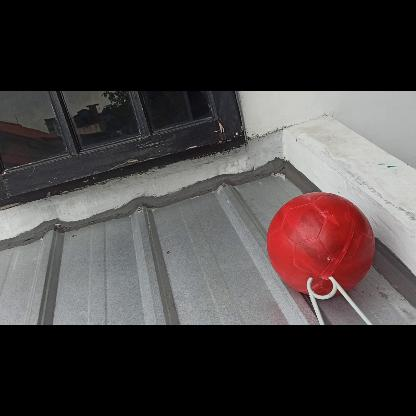red_ball: (268, 191, 376, 299)
